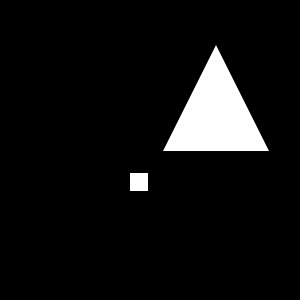circle: (130, 173, 148, 191)
triangle: (163, 45, 269, 151)
